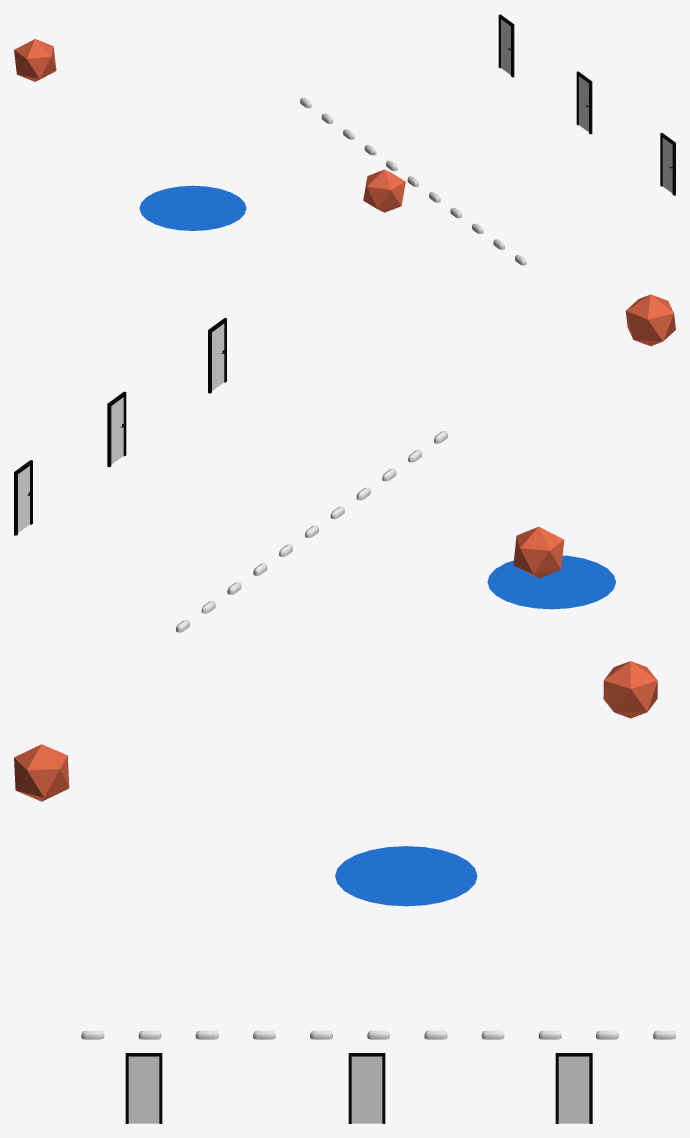
The model's file is beach.gltf.
3 renders of one model, top to bottom at view 1: azimuth 30°, elevation 25°; view 2: azimuth 150°, elevation 25°; view 3: azimuth 270°, elevation 25°, orthographic. The views are drawn at different scales.
Parts seen in each view (by area): view 1: PondWater, Leaf3_convex_colider.001, Leaf3_convex_colider, LaneMarking, DoorFrame, DoorFrame.001, DoorFrame.002; view 2: PondWater, Leaf3_convex_colider.001, Leaf3_convex_colider, LaneMarking, DoorFrame.001, DoorFrame, DoorFrame.002; view 3: PondWater, DoorFrame, DoorFrame.001, DoorFrame.002, Leaf3_convex_colider, Leaf3_convex_colider.001, LaneMarking.
Boxes of the visible parts, bbox=[...] form: PondWater: bbox=[139, 185, 246, 230]; Leaf3_convex_colider.001: bbox=[14, 39, 56, 81]; Leaf3_convex_colider: bbox=[363, 169, 405, 212]; LaneMarking: bbox=[300, 97, 526, 265]; DoorFrame: bbox=[498, 14, 514, 77]; DoorFrame.001: bbox=[576, 71, 592, 134]; DoorFrame.002: bbox=[660, 133, 675, 195]; PondWater: bbox=[487, 555, 615, 609]; Leaf3_convex_colider.001: bbox=[513, 526, 564, 578]; Leaf3_convex_colider: bbox=[625, 294, 675, 346]; LaneMarking: bbox=[176, 431, 447, 632]; DoorFrame.001: bbox=[107, 391, 126, 467]; DoorFrame: bbox=[14, 460, 32, 535]; DoorFrame.002: bbox=[208, 318, 226, 393]; PondWater: bbox=[335, 846, 477, 906]; DoorFrame: bbox=[555, 1053, 592, 1123]; DoorFrame.001: bbox=[348, 1053, 385, 1123]; DoorFrame.002: bbox=[125, 1053, 162, 1123]; Leaf3_convex_colider: bbox=[14, 744, 69, 801]; Leaf3_convex_colider.001: bbox=[603, 661, 657, 718]; LaneMarking: bbox=[81, 1030, 675, 1039].
Size of what is drawn, in the model's own units: 10.19 by 3 by 9.35.
